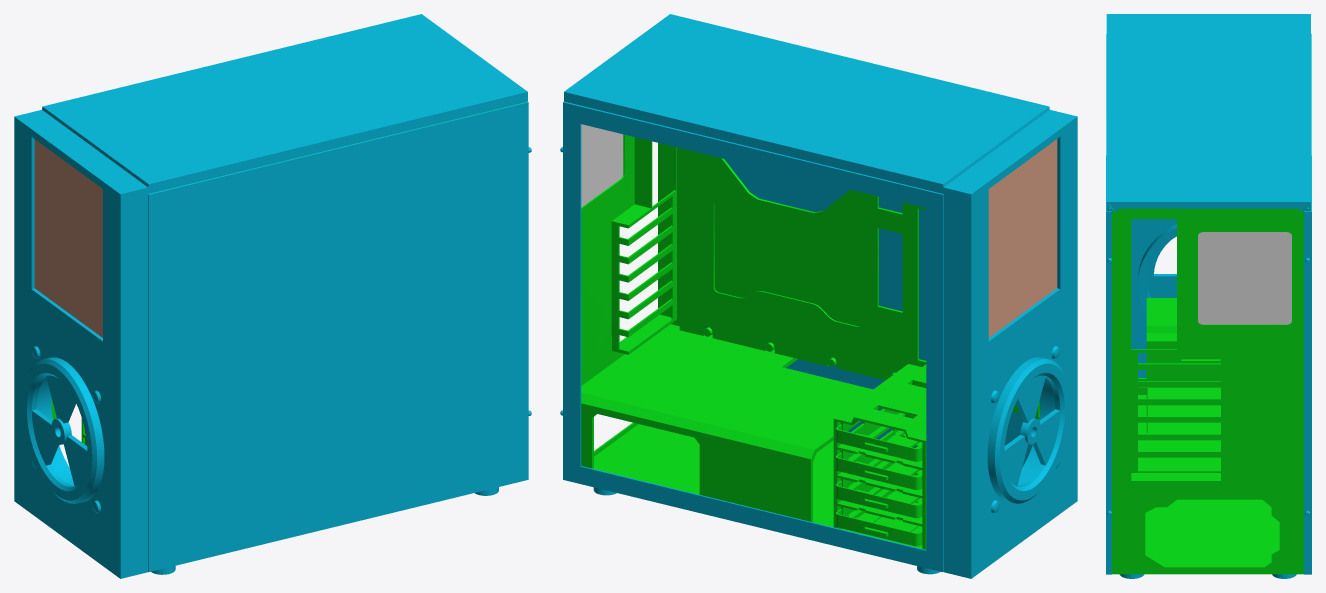
The model's file is pc_case_mod_b_cover.fbx.
The picture shows the model from 3 angles, left to right: view 1: azimuth 30°, elevation 25°; view 2: azimuth 150°, elevation 25°; view 3: azimuth 270°, elevation 25°; orthographic projection. The views are drawn at different scales.
Parts seen in each view (by area): view 1: pc_case_mod_b_cover, pc_case_mod_b_transp; view 2: pc_case_mod_b_cover, pc_case_mod_b_cover_door, pc_case_mod_b_transp, pc_case_mod_b_wire; view 3: pc_case_mod_b_cover, pc_case_mod_b_wire, pc_case_mod_b_cover_door.
Boxes of the visible parts, box(x1,y1,x2,y2) form: pc_case_mod_b_cover: box(14, 14, 531, 578); pc_case_mod_b_transp: box(34, 139, 102, 337); pc_case_mod_b_cover: box(564, 14, 1077, 578); pc_case_mod_b_cover_door: box(560, 101, 943, 572); pc_case_mod_b_transp: box(988, 139, 1057, 337); pc_case_mod_b_wire: box(581, 124, 623, 207); pc_case_mod_b_cover: box(1106, 14, 1310, 578); pc_case_mod_b_wire: box(1198, 232, 1291, 324); pc_case_mod_b_cover_door: box(1304, 34, 1311, 574).
Bounding box in the file's own units: 50.12 × 45.53 × 22.06.
